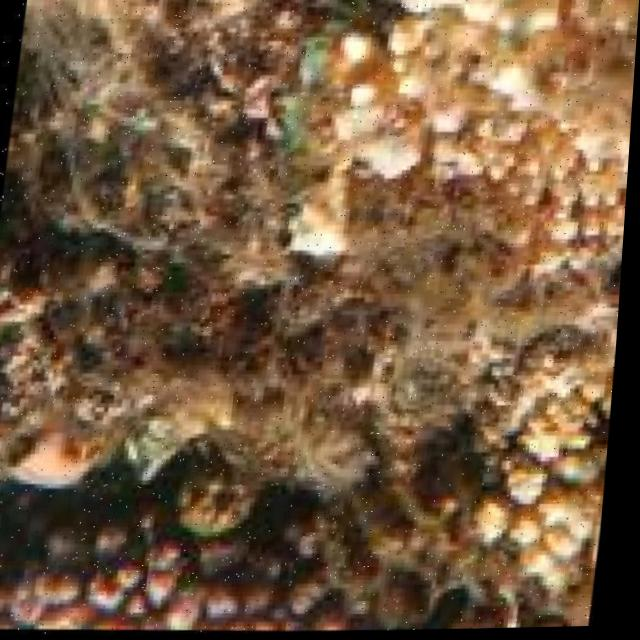Bleached Coral: (247, 0, 640, 350)
